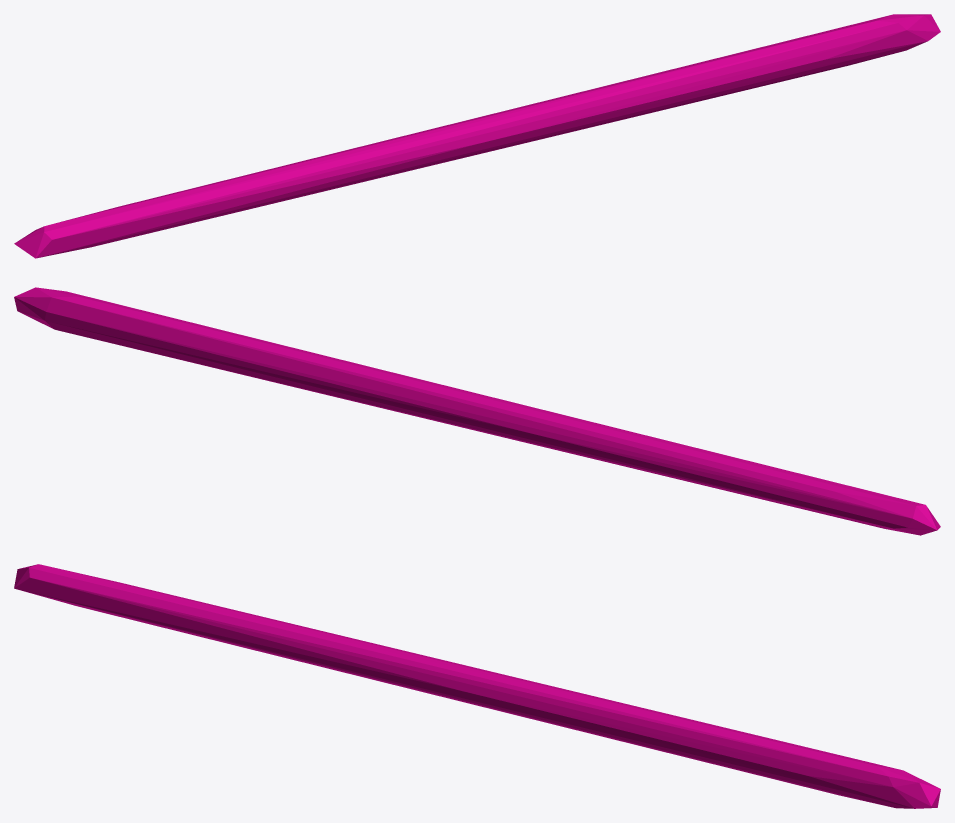
File: toe-B-rod_convex_piece_000.obj
The picture shows the model from 3 angles, top to bottom: view 1: azimuth 30°, elevation 25°; view 2: azimuth 150°, elevation 25°; view 3: azimuth 330°, elevation 25°; orthographic projection.
Size of the model in its own units: 0.2658 by 0.01 by 0.00824.
